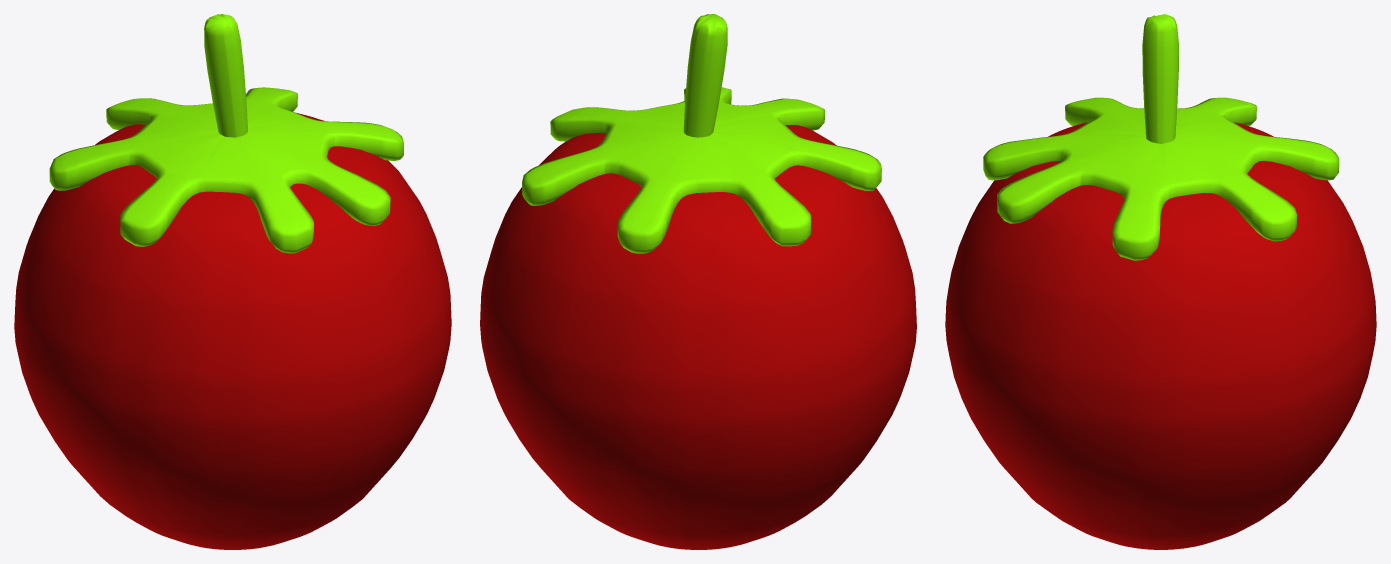
The model's file is xihongshi.fbx.
The picture shows the model from 3 angles, left to right: view 1: azimuth 30°, elevation 25°; view 2: azimuth 150°, elevation 25°; view 3: azimuth 270°, elevation 25°; orthographic projection.
Visible parts, largest first — view 1: polySurface5, polySurface6, pCylinder1; view 2: polySurface5, polySurface6, pCylinder1; view 3: polySurface5, polySurface6, pCylinder1.
Part boxes in pixels (box(x1,y1,x2,y2)): polySurface5: box(14, 113, 451, 549); polySurface6: box(49, 87, 403, 253); pCylinder1: box(204, 14, 247, 137); polySurface5: box(480, 125, 916, 549); polySurface6: box(522, 87, 881, 253); pCylinder1: box(683, 14, 727, 137); polySurface5: box(945, 122, 1376, 549); polySurface6: box(983, 97, 1339, 260); pCylinder1: box(1142, 14, 1178, 143).
Bounding box in the file's own units: 1.7 × 2.21 × 1.7.
